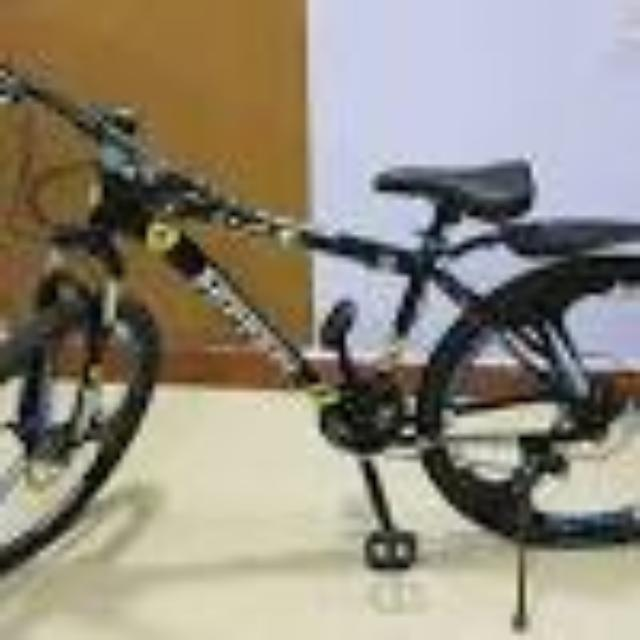obstacle: (0, 58, 640, 582)
